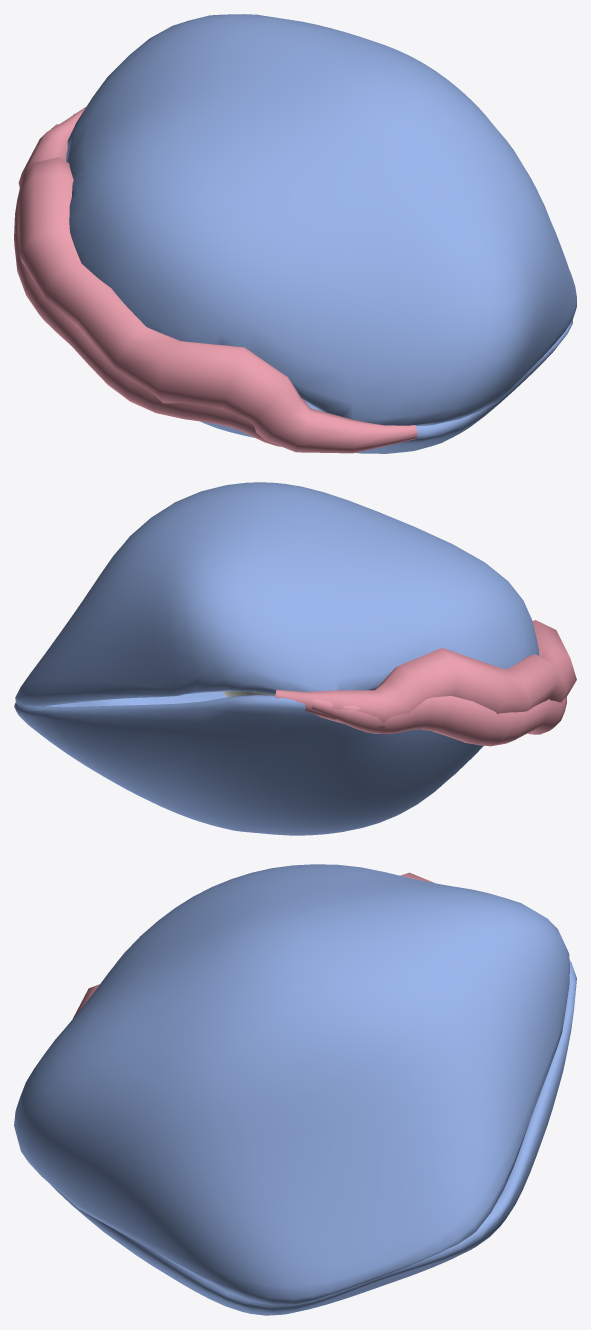
File: Shell+pearl.fbx
The picture shows the model from 3 angles, top to bottom: view 1: azimuth 30°, elevation 25°; view 2: azimuth 150°, elevation 25°; view 3: azimuth 270°, elevation 25°; orthographic projection. The views are drawn at different scales.
Parts seen in each view (by area): view 1: Sphere.007, Sphere.006; view 2: Sphere.007, Sphere.006; view 3: Sphere.007, Sphere.006.
Part boxes in pixels (x1,y1,x2,y2): Sphere.007: [18, 14, 576, 453]; Sphere.006: [14, 114, 572, 453]; Sphere.007: [15, 482, 576, 728]; Sphere.006: [14, 691, 566, 835]; Sphere.007: [14, 864, 569, 1304]; Sphere.006: [50, 960, 576, 1315].
Size of the model in its own units: 104 by 68.06 by 95.69.
